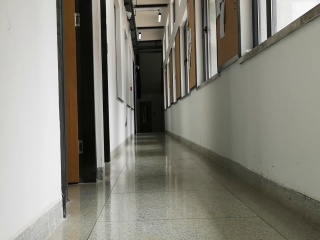room: (52, 2, 101, 209)
